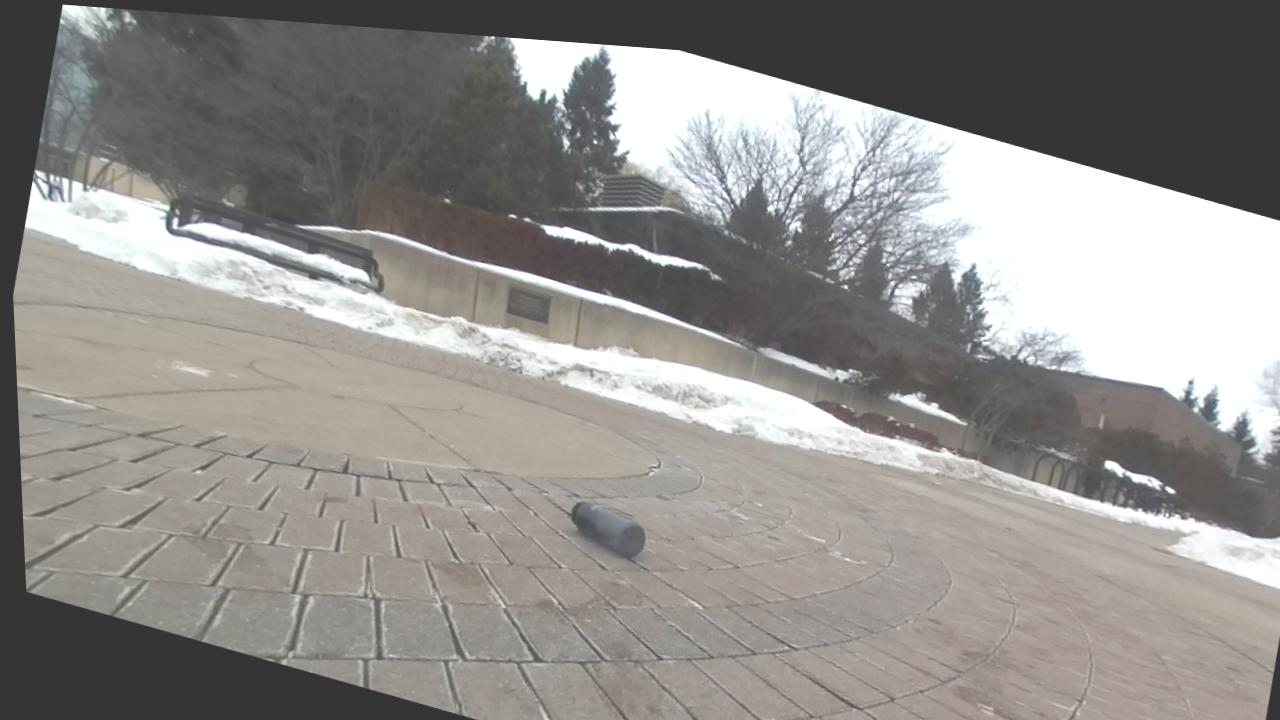bottle: (570, 501, 643, 559)
